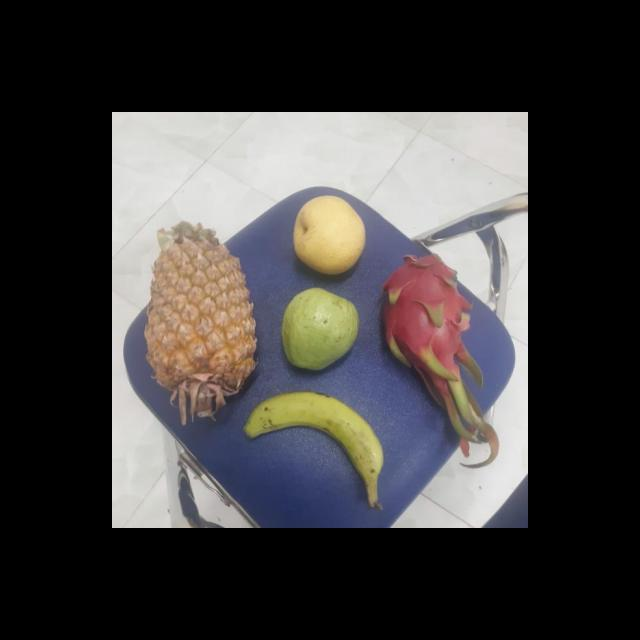banana: (253, 393, 392, 489)
guava: (282, 290, 364, 371)
pear: (290, 197, 370, 275)
pineapple: (144, 223, 256, 418)
pitaya: (378, 253, 476, 377)
